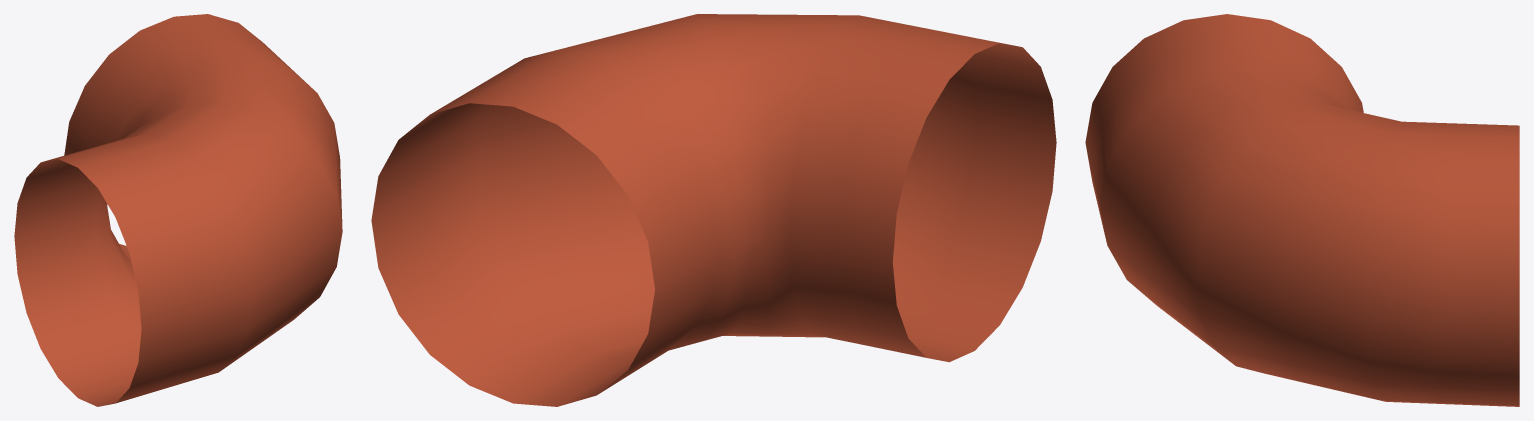
The model's file is SM_Câble_Angle.fbx.
The picture shows the model from 3 angles, left to right: view 1: azimuth 30°, elevation 25°; view 2: azimuth 150°, elevation 25°; view 3: azimuth 270°, elevation 25°; orthographic projection. The views are drawn at different scales.
Parts seen in each view (by area): view 1: Câble_Angle; view 2: Câble_Angle; view 3: Câble_Angle.
Part boxes in pixels (x1,y1,x2,y2): Câble_Angle: [14, 14, 342, 406]; Câble_Angle: [371, 14, 1056, 406]; Câble_Angle: [1085, 14, 1519, 406].
Size of the model in its own units: 3.06 by 2 by 3.06.
